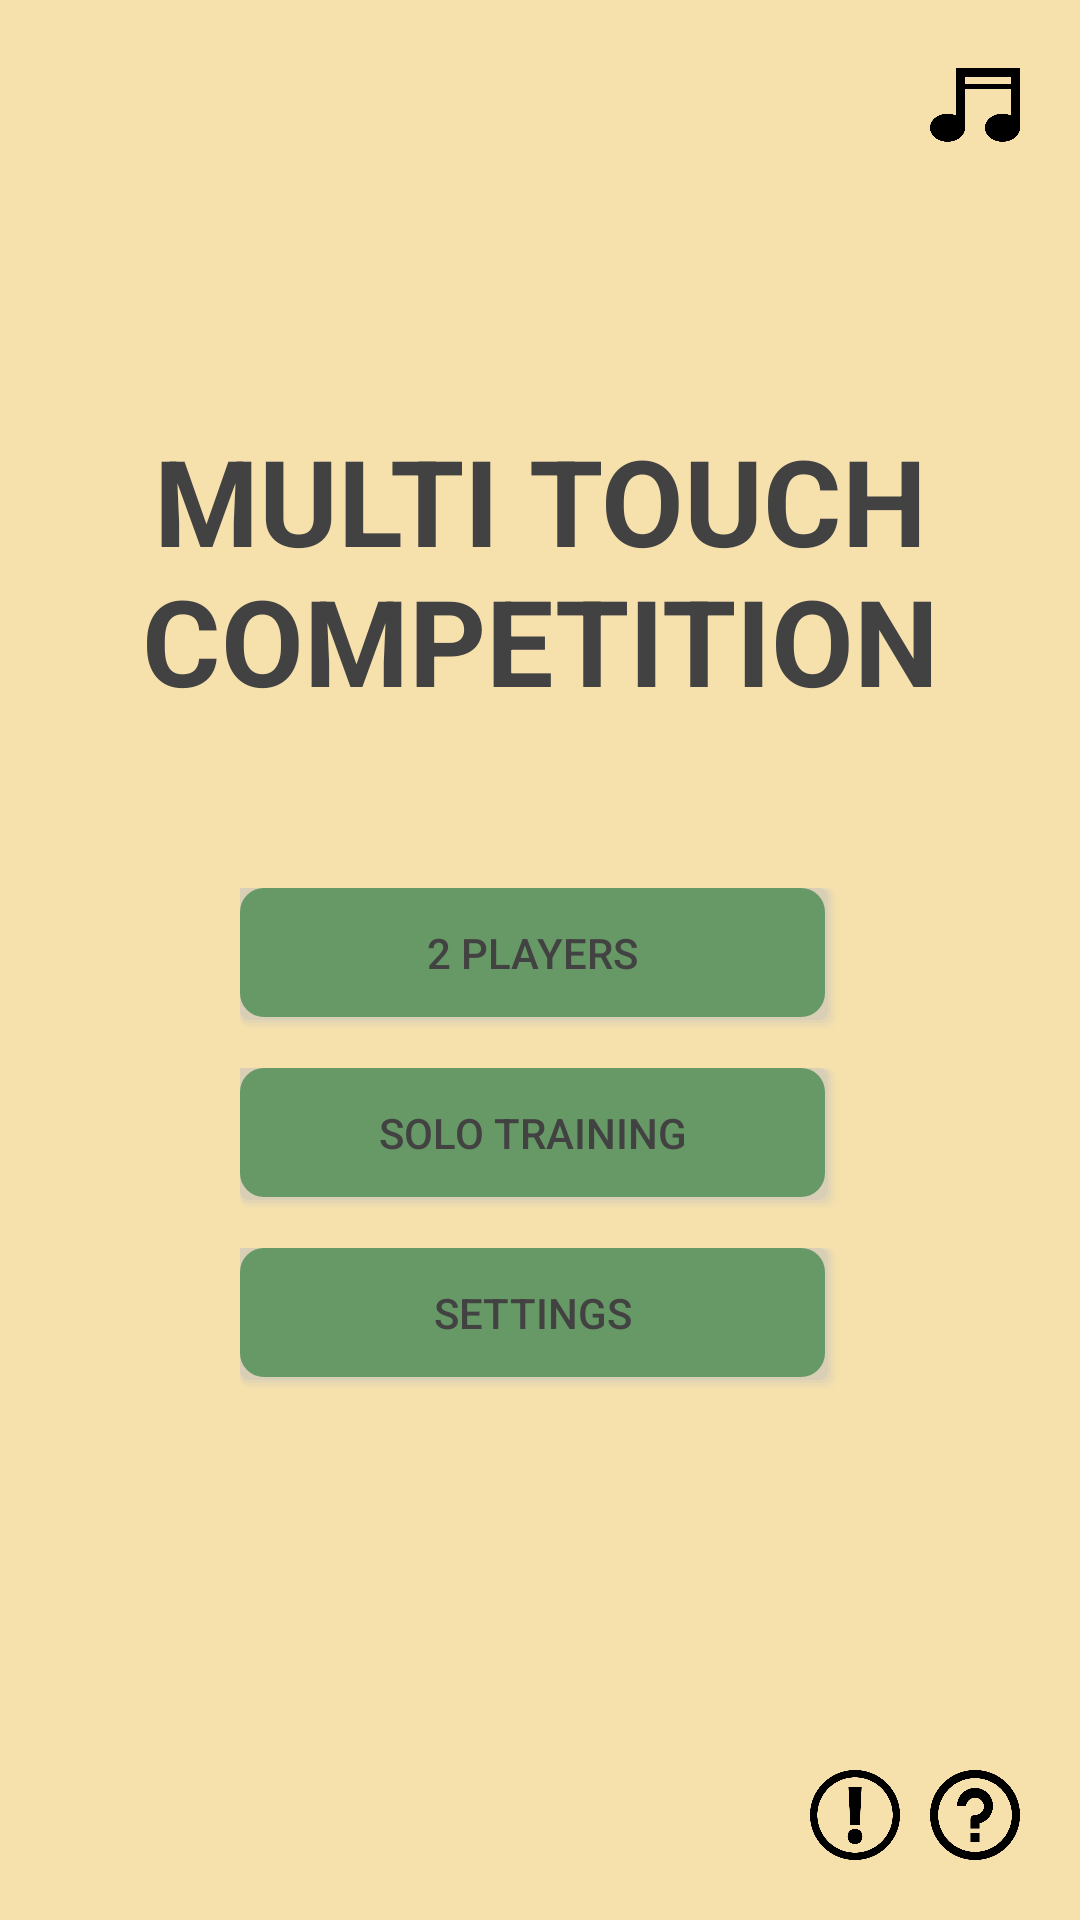

Named icons in this screenshot (1080 × 1920) and their bounding boxes, (x1, y1, x2, y2):
exclamation: (810, 1770, 900, 1860)
music: (930, 68, 1020, 142)
question: (930, 1770, 1020, 1860)
